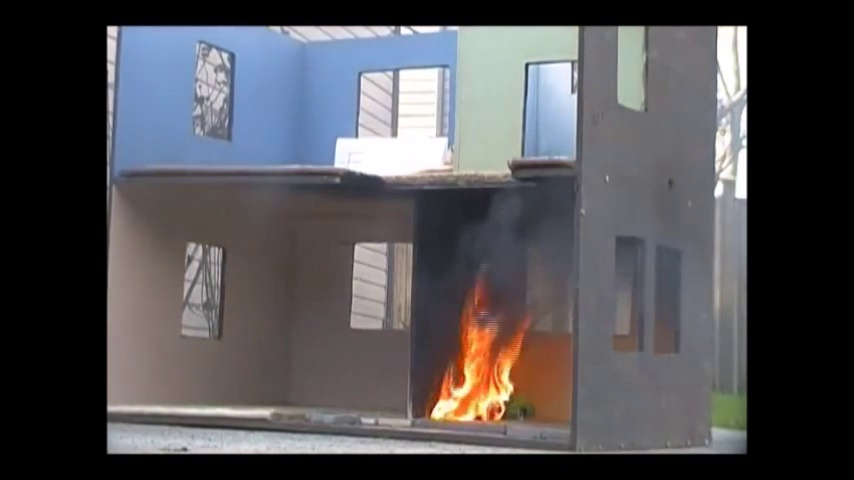fire: (434, 306, 522, 424)
